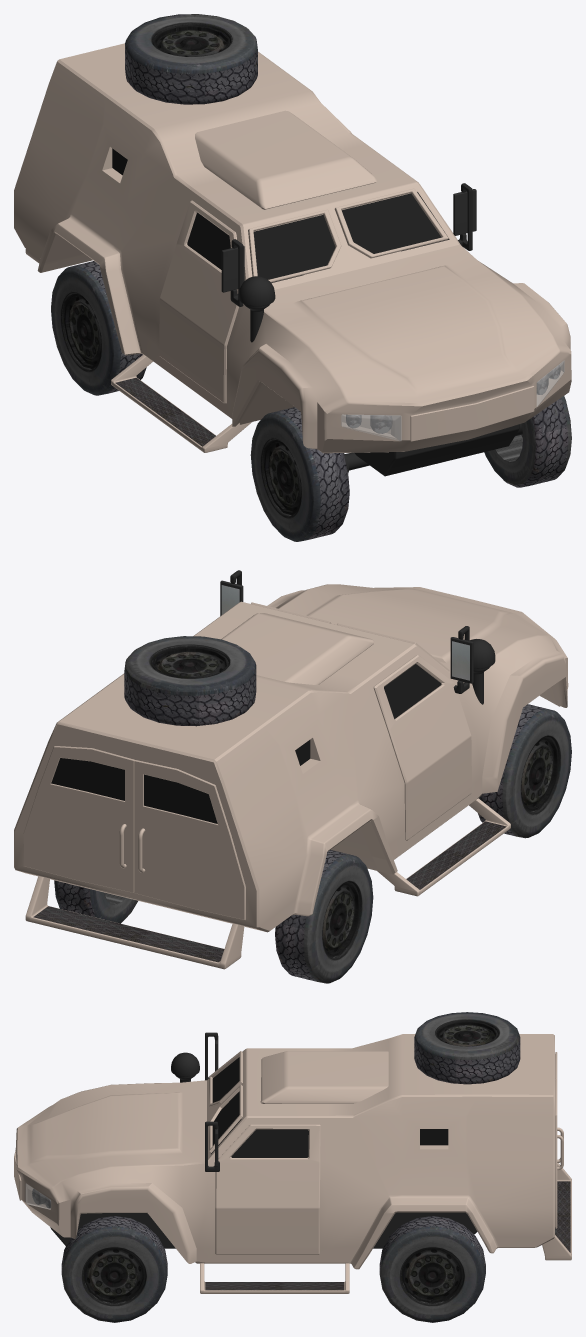
The model's file is vehicle.fbx.
The picture shows the model from 3 angles, top to bottom: view 1: azimuth 30°, elevation 25°; view 2: azimuth 150°, elevation 25°; view 3: azimuth 270°, elevation 25°; orthographic projection. The views are drawn at different scales.
Parts seen in each view (by area): view 1: MainBody, pCylinder1 (×4), TopTrunk, DoorR, pCylinder5 (×3), FrontPlate, StandR, BottomBody, WindSheild (×2), obj1, glassR, Radar (+2 smaller); view 2: MainBody, pCylinder1 (×4), BackDoorR, BackDoorL, DoorR, TopTrunk, pCylinder5 (×3), standBack, StandR, BackGlassR, BackGlassL, glassR (+2 smaller); view 3: MainBody, pCylinder1 (×3), DoorL, pCylinder5 (×3), TopTrunk, StandL, BottomBody, polySurface12, standBack, Radar, obj1, windshieldR (+2 smaller).
Part boxes in pixels (bbox=[...]): MainBody: bbox=[14, 43, 571, 453]; pCylinder1 (×4): bbox=[51, 14, 571, 541]; TopTrunk: bbox=[195, 110, 376, 209]; DoorR: bbox=[159, 200, 238, 403]; pCylinder5 (×3): bbox=[64, 25, 301, 515]; FrontPlate: bbox=[410, 386, 534, 441]; StandR: bbox=[111, 354, 251, 452]; BottomBody: bbox=[354, 424, 519, 476]; WindSheild (×2): bbox=[221, 189, 476, 292]; obj1: bbox=[334, 188, 448, 258]; glassR: bbox=[187, 212, 230, 269]; Radar: bbox=[239, 276, 275, 342]; MainBody: bbox=[14, 584, 568, 932]; pCylinder1 (×4): bbox=[54, 636, 571, 983]; BackDoorR: bbox=[134, 760, 245, 919]; BackDoorL: bbox=[23, 746, 134, 892]; DoorR: bbox=[373, 655, 471, 840]; TopTrunk: bbox=[221, 613, 374, 684]; pCylinder5 (×3): bbox=[151, 647, 558, 957]; standBack: bbox=[25, 876, 244, 969]; StandR: bbox=[377, 798, 510, 896]; BackGlassR: bbox=[144, 774, 217, 823]; BackGlassL: bbox=[51, 758, 124, 800]; glassR: bbox=[384, 664, 441, 718]; MainBody: bbox=[15, 1034, 554, 1269]; pCylinder1 (×3): bbox=[61, 1012, 520, 1322]; DoorL: bbox=[215, 1124, 320, 1254]; pCylinder5 (×3): bbox=[84, 1021, 498, 1303]; TopTrunk: bbox=[260, 1051, 388, 1103]; StandL: bbox=[200, 1263, 349, 1293]; BottomBody: bbox=[50, 1212, 477, 1248]; polySurface12: bbox=[231, 1129, 308, 1157]; standBack: bbox=[542, 1163, 571, 1260]; Radar: bbox=[171, 1052, 199, 1082]; obj1: bbox=[209, 1084, 242, 1153]; windshieldR: bbox=[209, 1051, 242, 1107].
Size of the model in its own units: 49.76 by 46.72 by 97.46.
